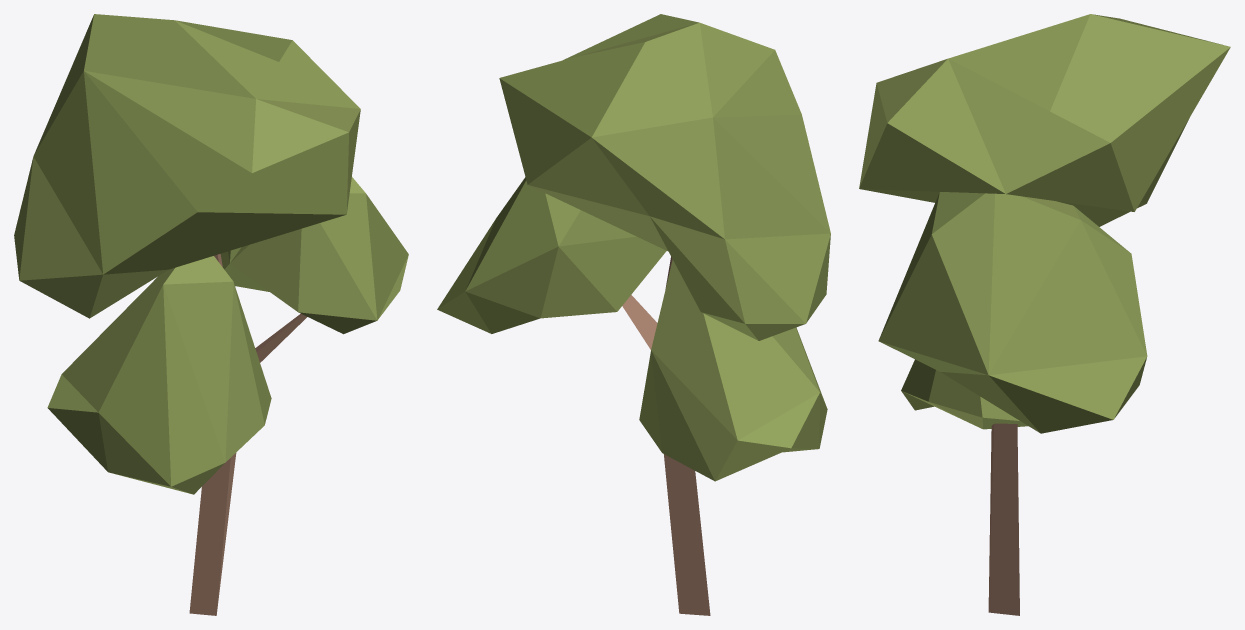
File: LPTree_Tree_Type3_01_Model_instanced_l1.glb
3 renders of one model, left to right at view 1: azimuth 30°, elevation 25°; view 2: azimuth 150°, elevation 25°; view 3: azimuth 270°, elevation 25°, orthographic. The views are drawn at different scales.
Parts seen in each view (by area): view 1: Tree Type3 01 Model; view 2: Tree Type3 01 Model; view 3: Tree Type3 01 Model.
Part boxes in pixels (left/top/right/bottom): Tree Type3 01 Model: left=14, top=14, right=408, bottom=615; Tree Type3 01 Model: left=437, top=14, right=830, bottom=615; Tree Type3 01 Model: left=859, top=14, right=1230, bottom=615.
Bounding box in the file's own units: 1.21 × 1.91 × 1.07.
Materials: 1 (1 with a texture image).
